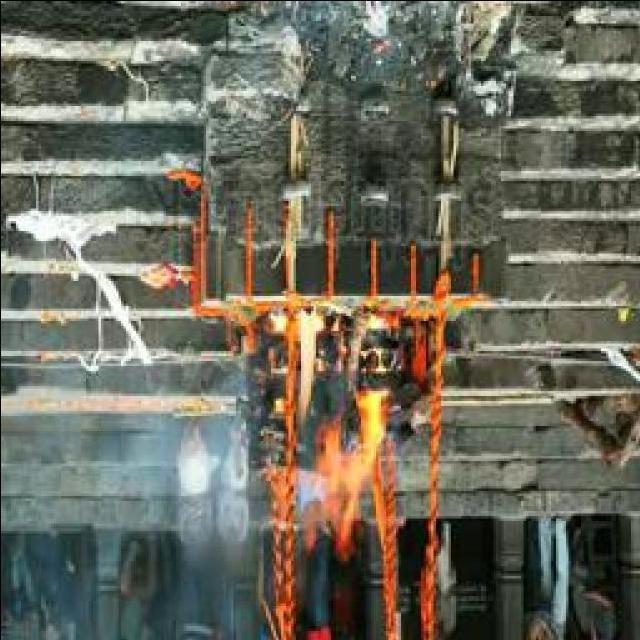Fire: (281, 306, 384, 554)
